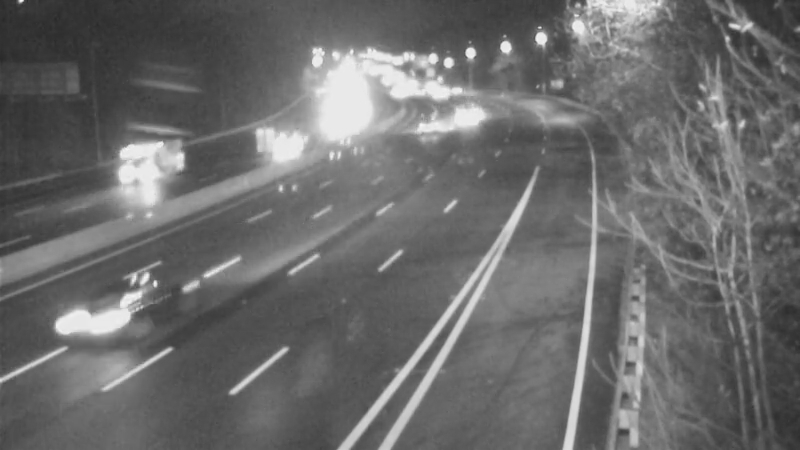vehicle: (42, 266, 152, 376), (96, 129, 176, 209), (432, 67, 482, 117), (408, 70, 458, 120), (438, 86, 488, 136), (403, 96, 453, 146), (271, 116, 321, 166)
